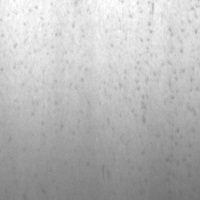pitted_surface: (4, 2, 130, 111), (136, 2, 198, 197)
